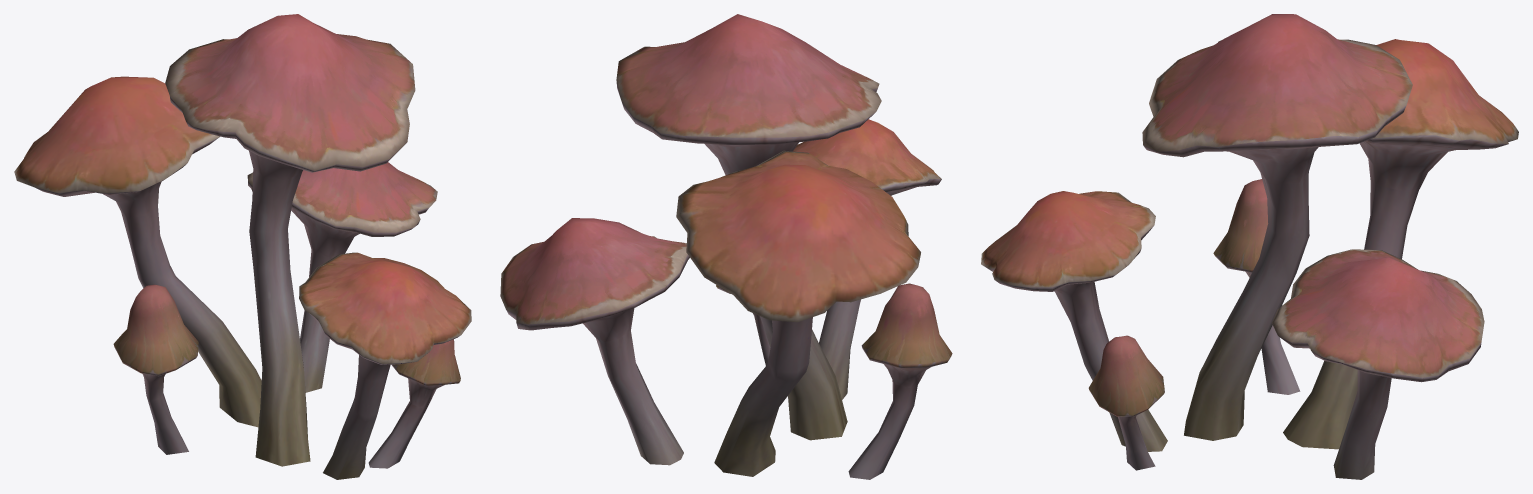
The model's file is Homeworld_Exterior_Cyjy_Plant_Grass_ChasmMushroom_01_Lod0.fbx.
3 renders of one model, left to right at view 1: azimuth 30°, elevation 25°; view 2: azimuth 150°, elevation 25°; view 3: azimuth 270°, elevation 25°, orthographic. The views are drawn at different scales.
Visible parts, largest first — view 1: Area_Cyjy_Prop_DOWN_Mogu_07_Lod0; view 2: Area_Cyjy_Prop_DOWN_Mogu_07_Lod0; view 3: Area_Cyjy_Prop_DOWN_Mogu_07_Lod0.
Boxes of the visible parts, box(x1,y1,x2,y2) form: Area_Cyjy_Prop_DOWN_Mogu_07_Lod0: box(14, 14, 471, 479); Area_Cyjy_Prop_DOWN_Mogu_07_Lod0: box(500, 14, 952, 479); Area_Cyjy_Prop_DOWN_Mogu_07_Lod0: box(981, 14, 1518, 479).
Size of the model in its own units: 3.89 by 3.81 by 4.32.
